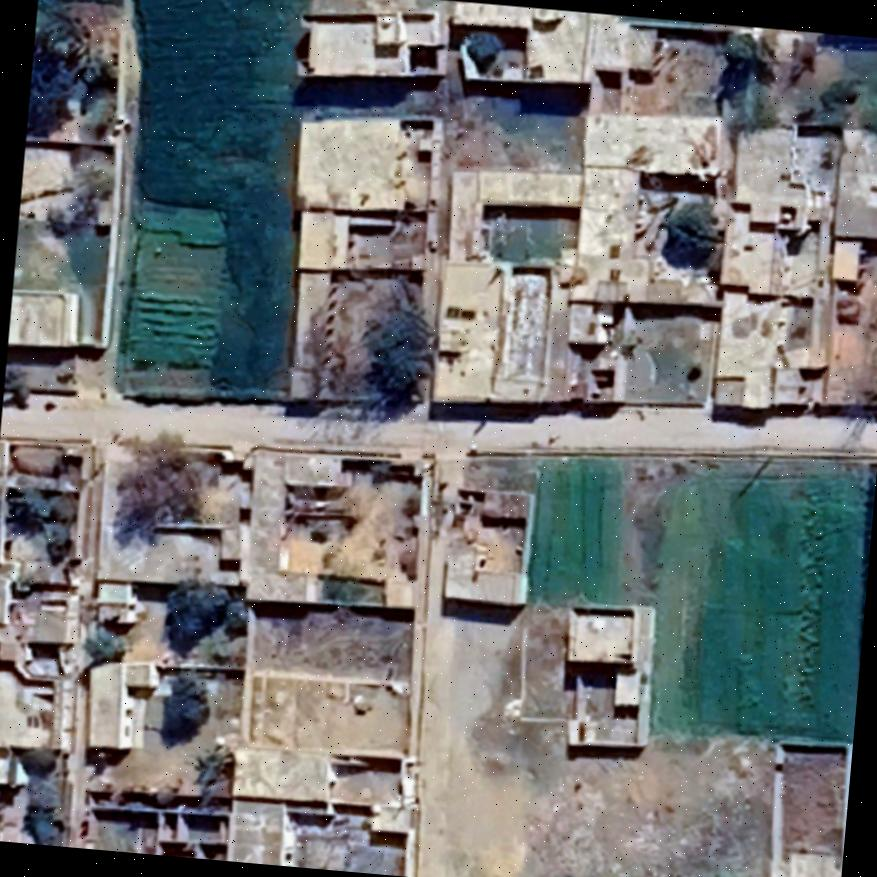Solarpanel: (439, 301, 477, 322)
